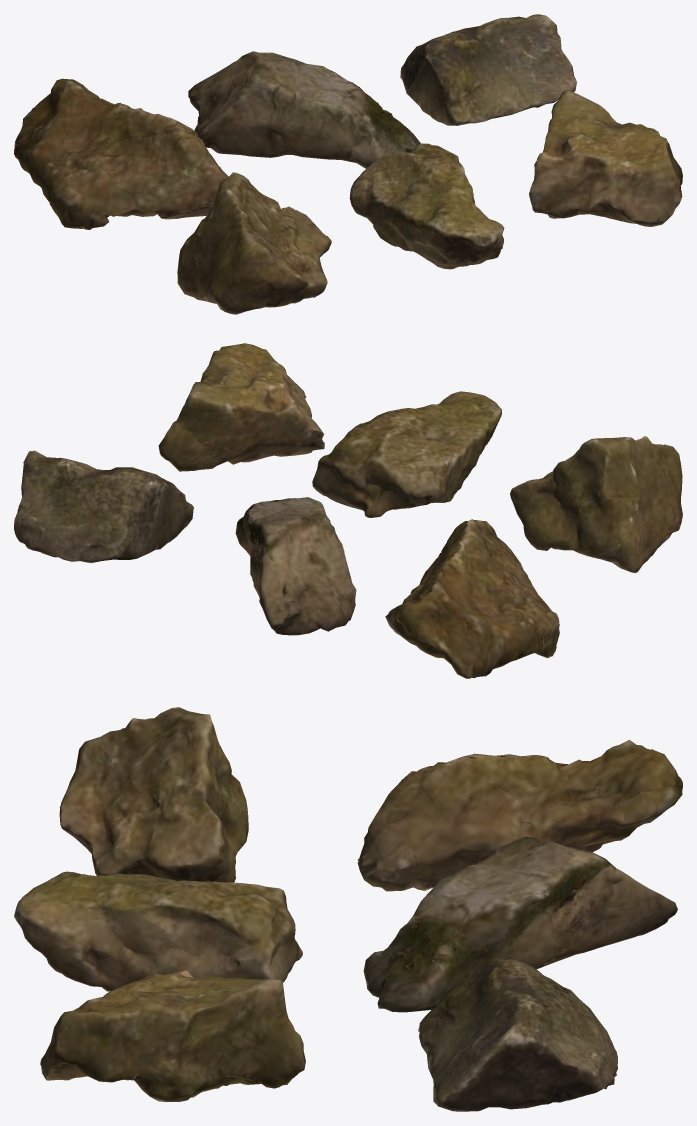
File: rock_moss_set_01.glb
3 views of the same model, one above another, from view 1: azimuth 30°, elevation 25°; view 2: azimuth 150°, elevation 25°; view 3: azimuth 270°, elevation 25° (orthographic). The views are drawn at different scales.
Visible parts, largest first — view 1: rock_moss_set_01_rock01, rock_moss_set_01_rock02, rock_moss_set_01_rock06, rock_moss_set_01_rock04, rock_moss_set_01_rock03, rock_moss_set_01_rock05; view 2: rock_moss_set_01_rock04, rock_moss_set_01_rock01, rock_moss_set_01_rock05, rock_moss_set_01_rock03, rock_moss_set_01_rock06, rock_moss_set_01_rock02; view 3: rock_moss_set_01_rock01, rock_moss_set_01_rock02, rock_moss_set_01_rock05, rock_moss_set_01_rock04, rock_moss_set_01_rock06, rock_moss_set_01_rock03.
Part boxes in pixels (<box>): rock_moss_set_01_rock01: <box>14,78,228,229</box>; rock_moss_set_01_rock02: <box>188,51,420,168</box>; rock_moss_set_01_rock06: <box>529,89,682,226</box>; rock_moss_set_01_rock04: <box>177,172,331,314</box>; rock_moss_set_01_rock03: <box>400,14,576,125</box>; rock_moss_set_01_rock05: <box>349,143,504,269</box>; rock_moss_set_01_rock04: <box>510,436,682,573</box>; rock_moss_set_01_rock01: <box>385,519,559,678</box>; rock_moss_set_01_rock05: <box>312,391,501,517</box>; rock_moss_set_01_rock03: <box>14,450,193,563</box>; rock_moss_set_01_rock06: <box>158,343,324,471</box>; rock_moss_set_01_rock02: <box>235,497,356,635</box>; rock_moss_set_01_rock01: <box>357,740,682,891</box>; rock_moss_set_01_rock02: <box>363,836,677,1012</box>; rock_moss_set_01_rock05: <box>14,871,302,991</box>; rock_moss_set_01_rock04: <box>59,707,248,882</box>; rock_moss_set_01_rock06: <box>40,970,305,1102</box>; rock_moss_set_01_rock03: <box>418,956,617,1111</box>.
Size of the model in its own units: 8 by 1.77 by 6.95.
Materials: 1 (1 with a texture image).
